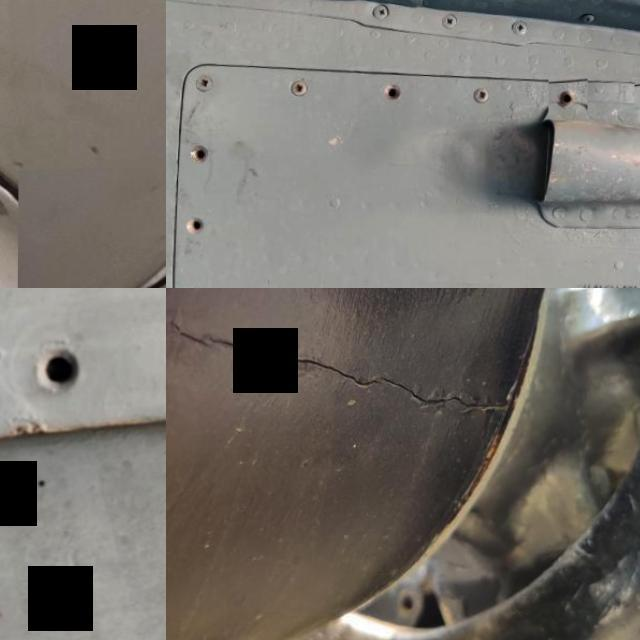Crack: (166, 288, 522, 473), (17, 165, 166, 288)
Missing_Fastener: (4, 317, 120, 427), (369, 68, 419, 115), (172, 200, 218, 250), (178, 132, 219, 176), (549, 81, 588, 118), (168, 273, 215, 288), (0, 189, 12, 219)
